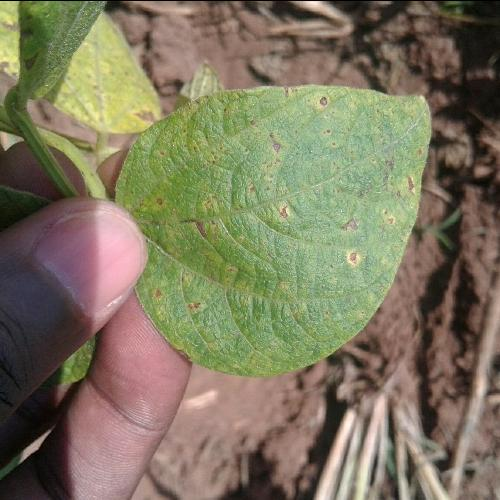hawar: (132, 166, 198, 319), (243, 125, 302, 231), (389, 141, 436, 227), (326, 225, 376, 279), (296, 78, 344, 118)
